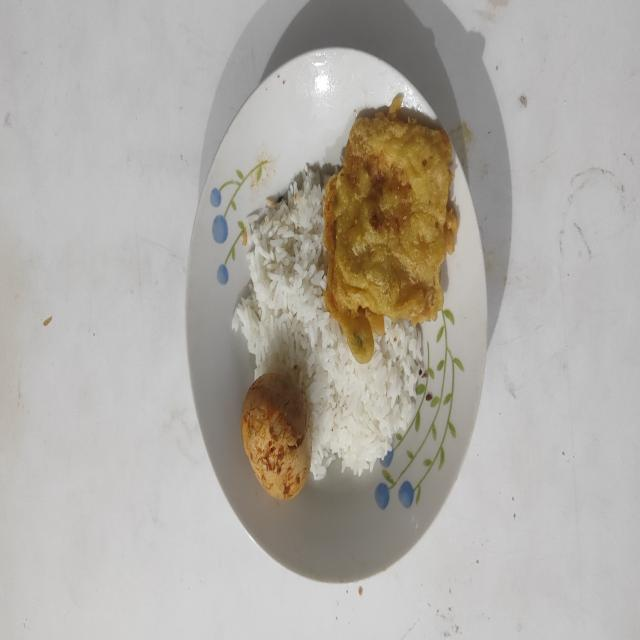nasi_putih: (232, 163, 424, 480)
